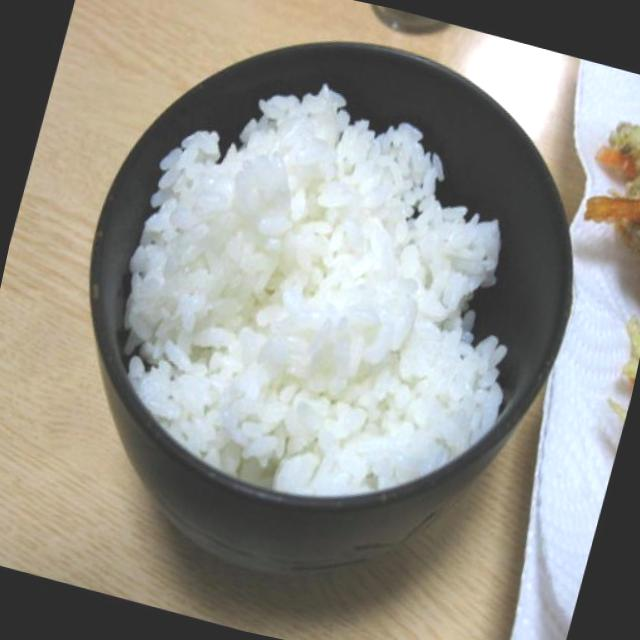Rice: (81, 51, 569, 536)
